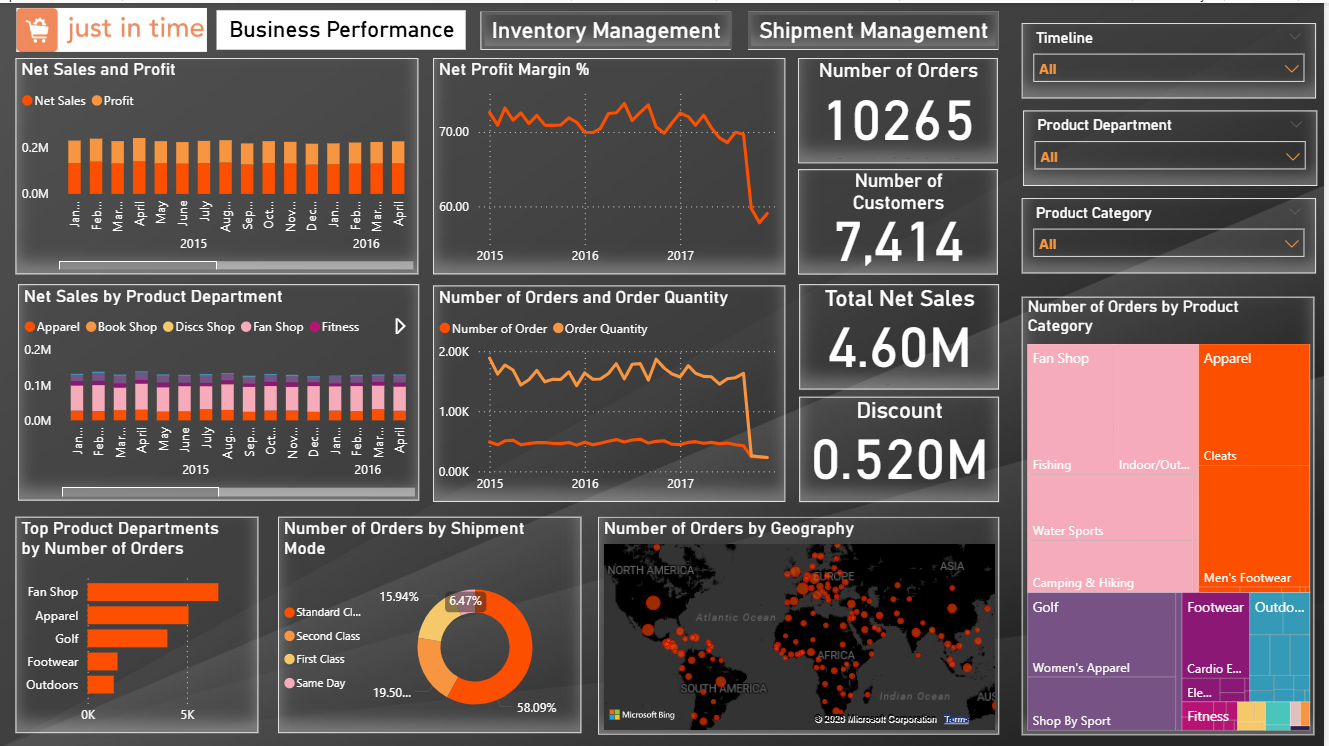

Layout of this report page (visuals, bound fields, positions):
{"tool":"powerbi","page":{"name":"Business Performance","canvas":[1280,720],"ordinal":0},"visuals":[{"type":"textbox","box":[211.2,7,240,37.5],"z":0},{"type":"image","box":[12.5,0,195,52],"z":1000},{"type":"lineStackedColumnComboChart","title":"Net Sales and Profit","fields":{"Y":["Sum(order.Net Sales)","Sum(order.Profit)"],"Category":["order.Shipment Date.Variation.Date Hierarchy.Year","order.Shipment Date.Variation.Date Hierarchy.Month"]},"box":[16.9,52.7,388.6,208.6],"z":2000},{"type":"slicer","fields":{"Values":["Date.Date.Variation.Date Hierarchy.Year","Date.Date.Variation.Date Hierarchy.Quarter","Date.Date.Variation.Date Hierarchy.Month","Date.Date.Variation.Date Hierarchy.Day"]},"box":[987.5,18.8,283.8,72.5],"z":3000},{"type":"lineChart","title":"Net Profit Margin %","fields":{"Y":["order.Profit Margin"],"Category":["order.Shipment Date.Variation.Date Hierarchy.Year","order.Shipment Date.Variation.Date Hierarchy.Month"]},"box":[419.7,52.7,340,208.6],"z":4000},{"type":"clusteredBarChart","title":"Top Product Departments by Number of Orders ","fields":{"Category":["product.Product Department"],"Y":["Count(order.Order ID)"]},"box":[17.5,495.4,234.3,208.6],"z":5000},{"type":"donutChart","title":"Number of Orders by Shipment Mode","fields":{"Category":["order.Shipment Mode"],"Y":["Count(order.Order ID)"]},"box":[270.3,495.4,292.9,208.6],"z":6000},{"type":"map","title":"Number of Orders by Geography","fields":{"Category":["order.Customer Country"],"Size":["Count(order.Order ID)"]},"box":[578.9,495.4,387.1,210],"z":7000},{"type":"treemap","title":"Number of Orders by Product Category","fields":{"Values":["Count(order.Order ID)"],"Group":["product.Product Department"],"Details":["product.Product Category"]},"box":[988.1,283.2,282.4,422.9],"z":8000},{"type":"card","title":"Number of Orders","fields":{"Values":["Count(order.Order ID)"]},"box":[772.5,52.5,192.5,101.8],"z":9000},{"type":"lineStackedColumnComboChart","title":"Net Sales by Product Department","fields":{"Category":["order.Shipment Date.Variation.Date Hierarchy.Year","order.Shipment Date.Variation.Date Hierarchy.Month"],"Y":["Sum(order.Net Sales)"],"Series":["product.Product Department"]},"box":[18.8,271.2,387.5,208.8],"z":10000},{"type":"lineChart","title":"Number of Orders and Order Quantity","fields":{"Y":["Count(order.Order ID)","Sum(order.Order Quantity)"],"Category":["Date.Date.Variation.Date Hierarchy.Year","Date.Date.Variation.Date Hierarchy.Month"]},"box":[420,272.5,340,208.8],"z":11000},{"type":"card","title":"Number of Customers","fields":{"Values":["Count(order.Customer ID)"]},"box":[772.5,160,192.5,101.2],"z":12000},{"type":"card","title":"Total Net Sales","fields":{"Values":["Sum(order.Net Sales)"]},"box":[773.8,271.2,192.5,101.2],"z":13000},{"type":"card","title":"Discount","fields":{"Values":["Sum(order.Discount)"]},"box":[773.8,380,192.5,101.2],"z":14000},{"type":"slicer","fields":{"Values":["product.Product Department"]},"box":[988.8,103.8,283.8,72.5],"z":15000},{"type":"slicer","fields":{"Values":["product.Product Category"]},"box":[987.5,188.8,283.8,72.5],"z":16000},{"type":"textbox","box":[723.7,8.1,241.3,36.6],"z":17000},{"type":"textbox","box":[466.2,8.1,241.3,36.6],"z":18000},{"type":"actionButton","box":[466.6,8.6,241.9,36],"z":19000},{"type":"actionButton","box":[724.3,8.6,241.9,36],"z":20000}]}

Visuals, with their boxes in screenshot pixels (x1, y1, x2, y2), scaled from the page's 1280x720 canvas onto the 1329x746 screenshot:
textbox: <bbox>219, 7, 468, 46</bbox>
image: <bbox>13, 0, 215, 54</bbox>
"Net Sales and Profit" lineStackedColumnComboChart: <bbox>18, 55, 421, 271</bbox>
slicer - Date.Date.Variation.Date Hierarchy.Year x Date.Date.Variation.Date Hierarchy.Quarter: <bbox>1025, 19, 1320, 95</bbox>
"Net Profit Margin %" lineChart: <bbox>436, 55, 789, 271</bbox>
"Top Product Departments by Number of Orders " clusteredBarChart: <bbox>18, 513, 261, 729</bbox>
"Number of Orders by Shipment Mode" donutChart: <bbox>281, 513, 585, 729</bbox>
"Number of Orders by Geography" map: <bbox>601, 513, 1003, 731</bbox>
"Number of Orders by Product Category" treemap: <bbox>1026, 293, 1319, 732</bbox>
"Number of Orders" card: <bbox>802, 54, 1002, 160</bbox>
"Net Sales by Product Department" lineStackedColumnComboChart: <bbox>20, 281, 422, 497</bbox>
"Number of Orders and Order Quantity" lineChart: <bbox>436, 282, 789, 499</bbox>
"Number of Customers" card: <bbox>802, 166, 1002, 271</bbox>
"Total Net Sales" card: <bbox>803, 281, 1003, 386</bbox>
"Discount" card: <bbox>803, 394, 1003, 499</bbox>
slicer - product.Product Department: <bbox>1027, 108, 1321, 183</bbox>
slicer - product.Product Category: <bbox>1025, 196, 1320, 271</bbox>
textbox: <bbox>751, 8, 1002, 46</bbox>
textbox: <bbox>484, 8, 735, 46</bbox>
actionButton: <bbox>484, 9, 736, 46</bbox>
actionButton: <bbox>752, 9, 1003, 46</bbox>
